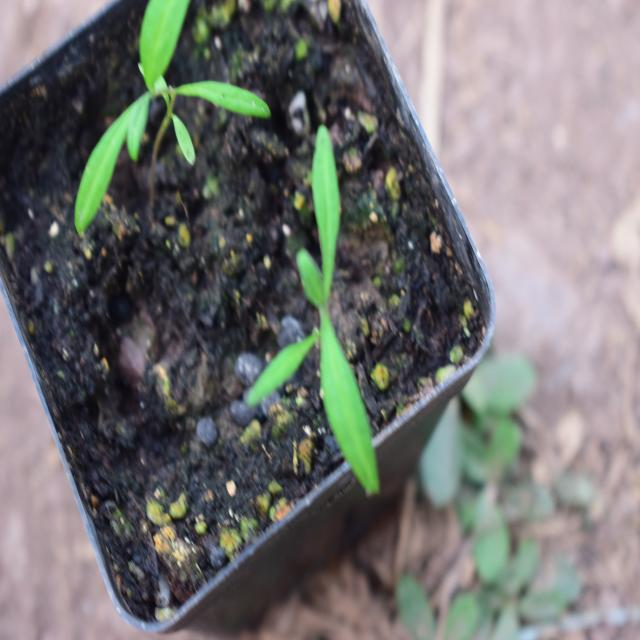white_smart_weed: (35, 0, 252, 250)
